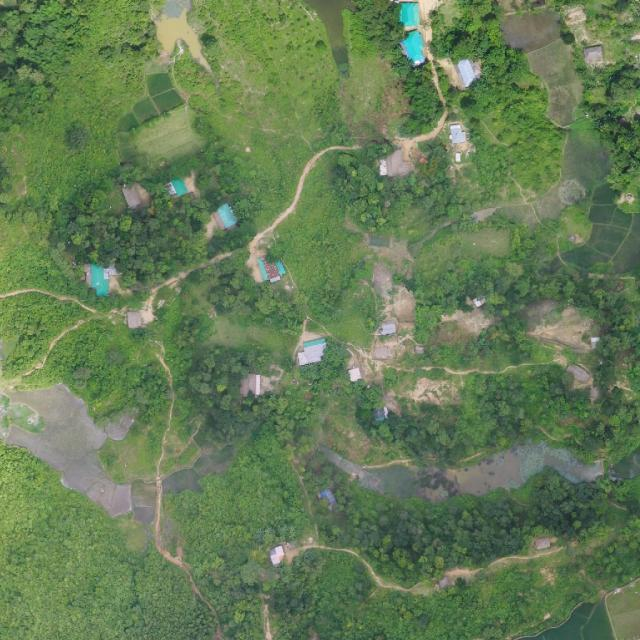agricultural_land: (560, 117, 611, 191), (519, 601, 614, 639), (541, 79, 546, 89)
greenland: (296, 222, 640, 467), (325, 471, 606, 583), (271, 550, 598, 640), (249, 162, 396, 323), (63, 172, 228, 304), (35, 306, 184, 451), (193, 104, 319, 255), (192, 241, 314, 358), (169, 313, 277, 421), (317, 147, 430, 246), (93, 406, 168, 490), (249, 372, 326, 450), (396, 62, 449, 142), (164, 49, 220, 106), (608, 475, 640, 503)
